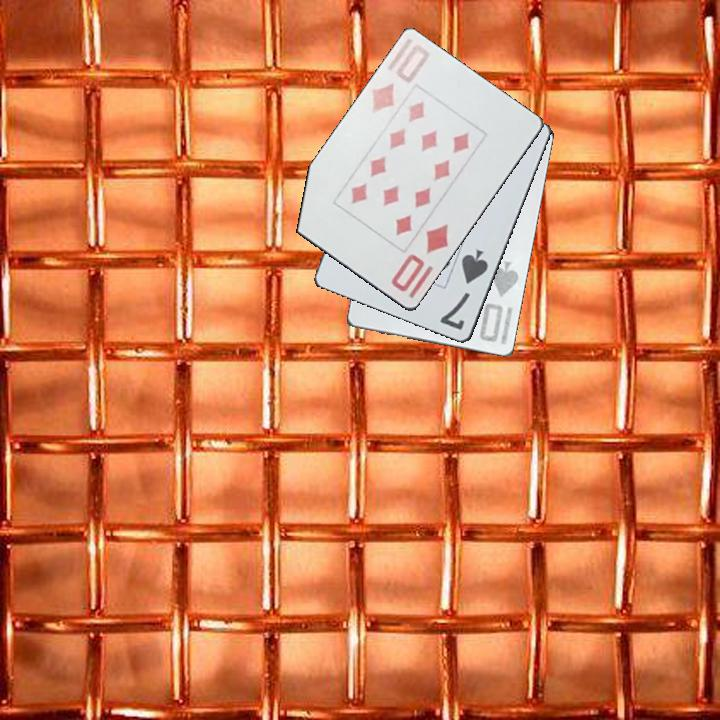7s: (436, 245, 491, 333)
Td: (368, 41, 433, 117), (387, 221, 453, 295)
Ts: (476, 258, 522, 346)
